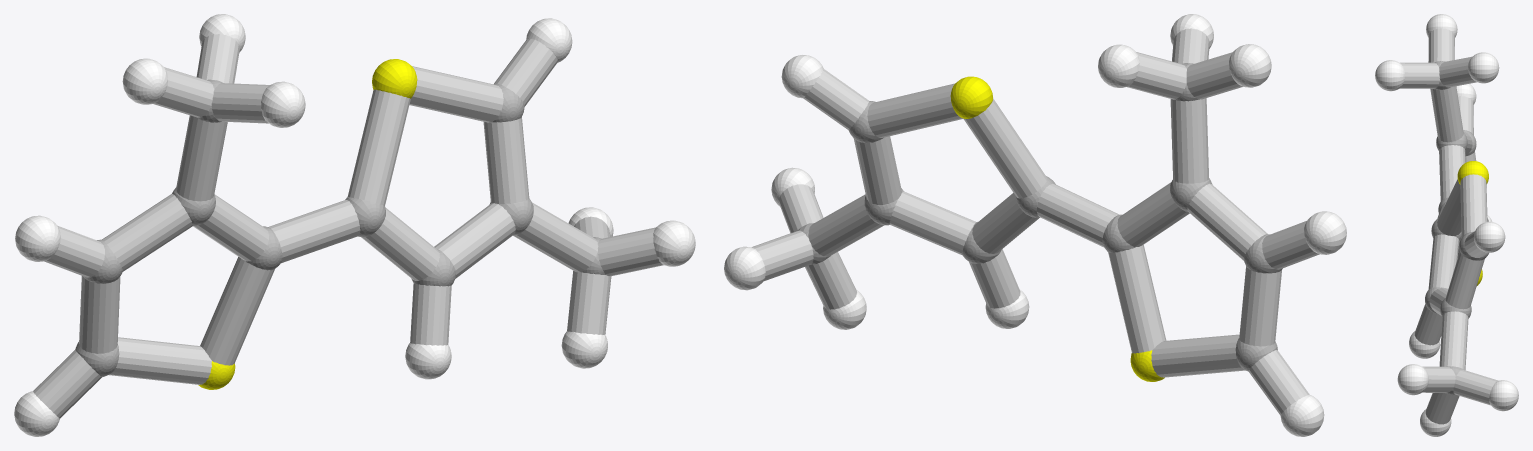
Rendered from Methylthiophene_Phi_15_Theta_340_Methylthiophene.glb.
3 views of the same model, side by side, from view 1: azimuth 30°, elevation 25°; view 2: azimuth 150°, elevation 25°; view 3: azimuth 270°, elevation 25° (orthographic). The views are drawn at different scales.
Parts seen in each view (by area): view 1: grp7965, grp3621, grp1, grp7241; view 2: grp7965, grp3621, grp1, grp7241; view 3: grp7965, grp3621, grp1, grp7241.
Part boxes in pixels (x1,y1,x2,y2): grp7965: (33, 34, 663, 418); grp3621: (14, 14, 695, 436); grp1: (75, 79, 605, 376); grp7241: (198, 59, 417, 389); grp7965: (752, 28, 1319, 415); grp3621: (724, 14, 1346, 436); grp1: (797, 63, 1282, 371); grp7241: (950, 76, 1164, 381); grp7965: (1400, 28, 1498, 424); grp3621: (1375, 14, 1518, 436); grp1: (1425, 61, 1488, 395); grp7241: (1457, 161, 1488, 285).
Bounding box in the file's own units: 9.53 × 5.82 × 2.74.
